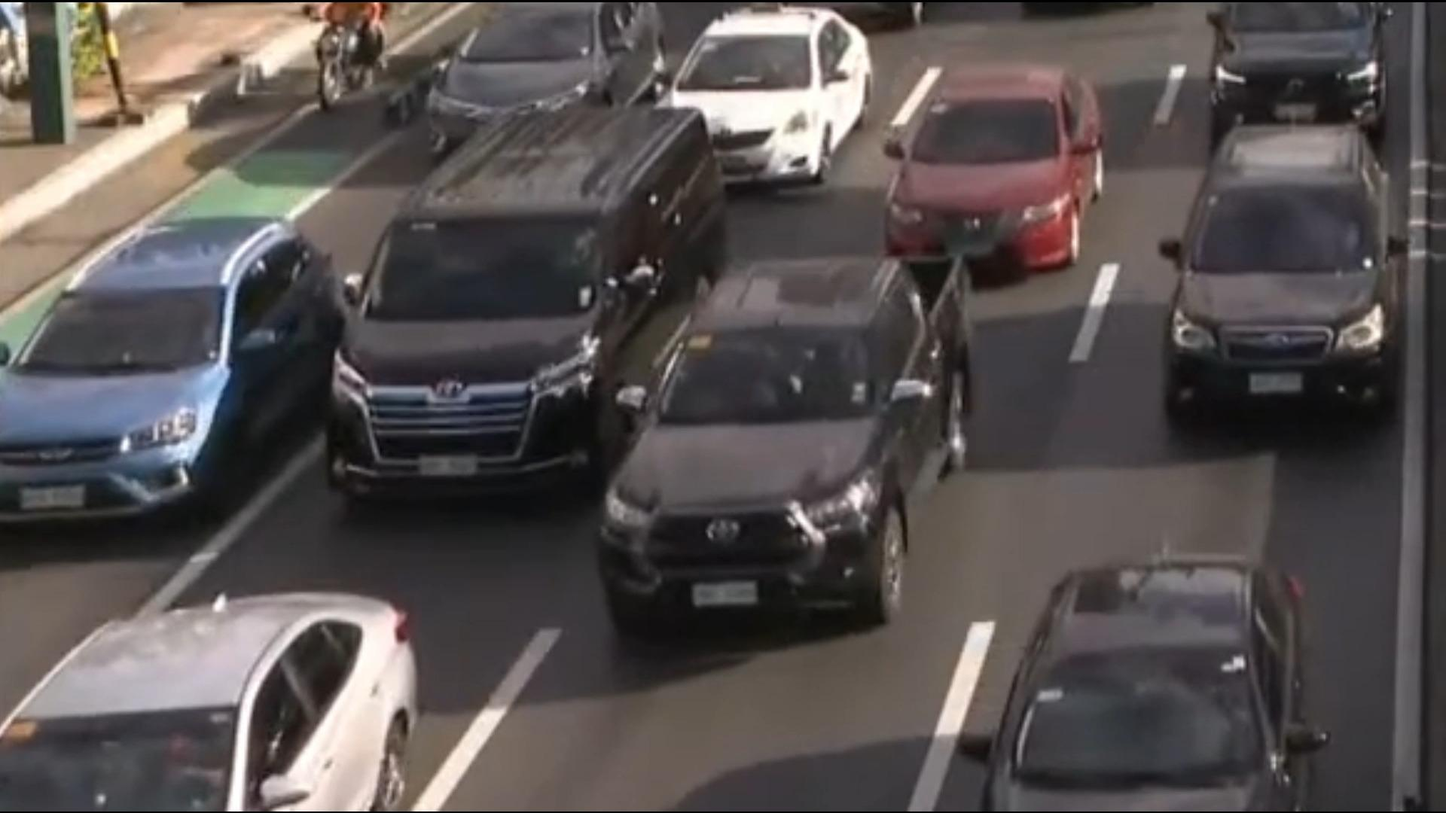Motorcycle: (293, 0, 400, 119)
Pickup: (603, 256, 998, 684)
SUV: (0, 192, 345, 574), (1103, 113, 1428, 462), (400, 0, 674, 169)
Sedan: (942, 554, 1347, 813), (0, 578, 445, 813), (858, 44, 1126, 304), (652, 0, 902, 224)
Van: (319, 91, 740, 529)
